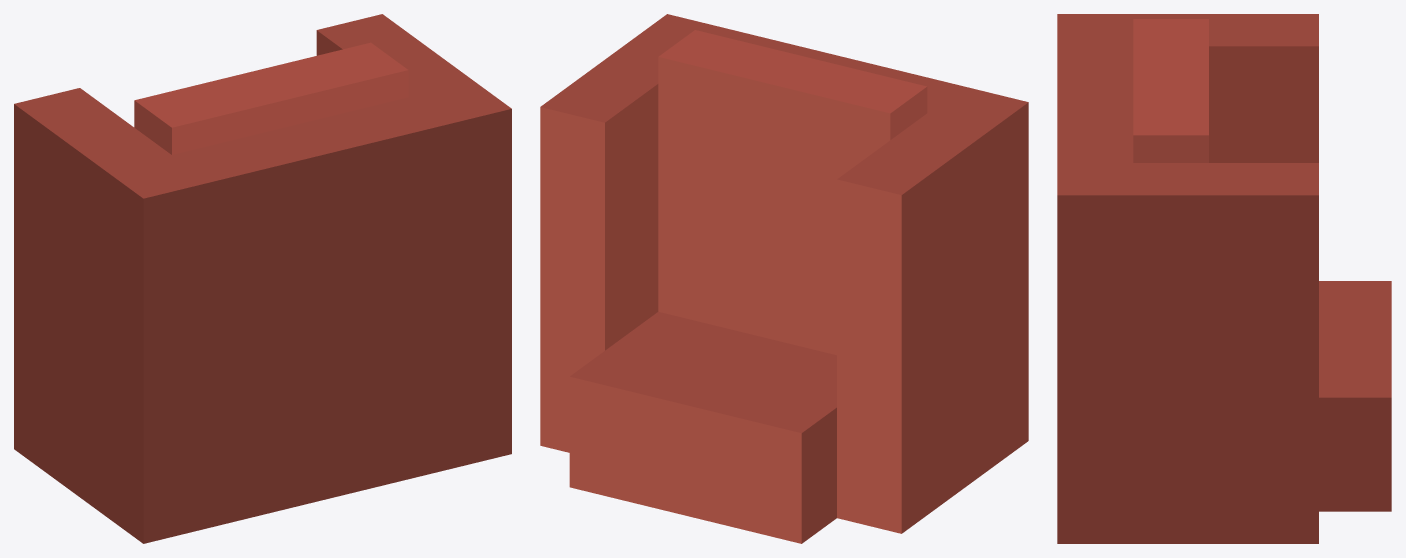
Rendered from Couch3.glb.
3 renders of one model, left to right at view 1: azimuth 30°, elevation 25°; view 2: azimuth 150°, elevation 25°; view 3: azimuth 270°, elevation 25°, orthographic. The views are drawn at different scales.
Visible parts, largest first — view 1: SO_Couch_03; view 2: SO_Couch_03; view 3: SO_Couch_03.
Boxes of the visible parts, left/top/right/bottom form: SO_Couch_03: left=14, top=14, right=511, bottom=543; SO_Couch_03: left=540, top=14, right=1028, bottom=543; SO_Couch_03: left=1057, top=14, right=1391, bottom=543.
Bounding box in the file's own units: 1.59 × 1.53 × 1.23.
1 material, 1 textured.
